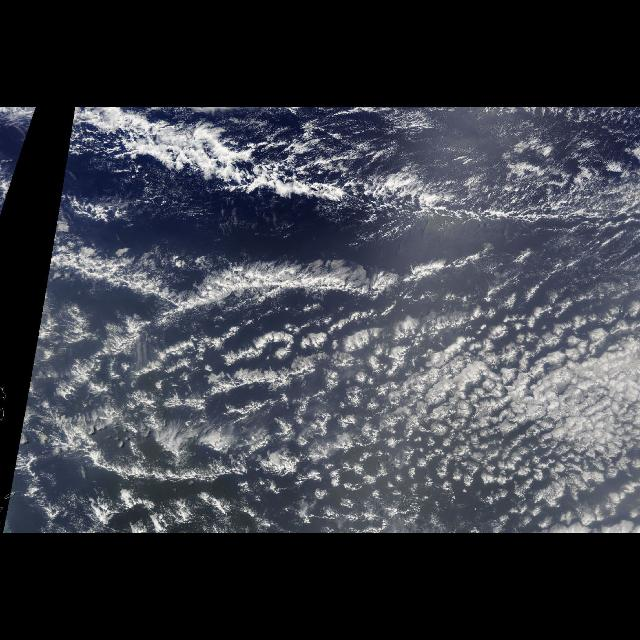Fish: (75, 109, 445, 224), (71, 240, 419, 320)
